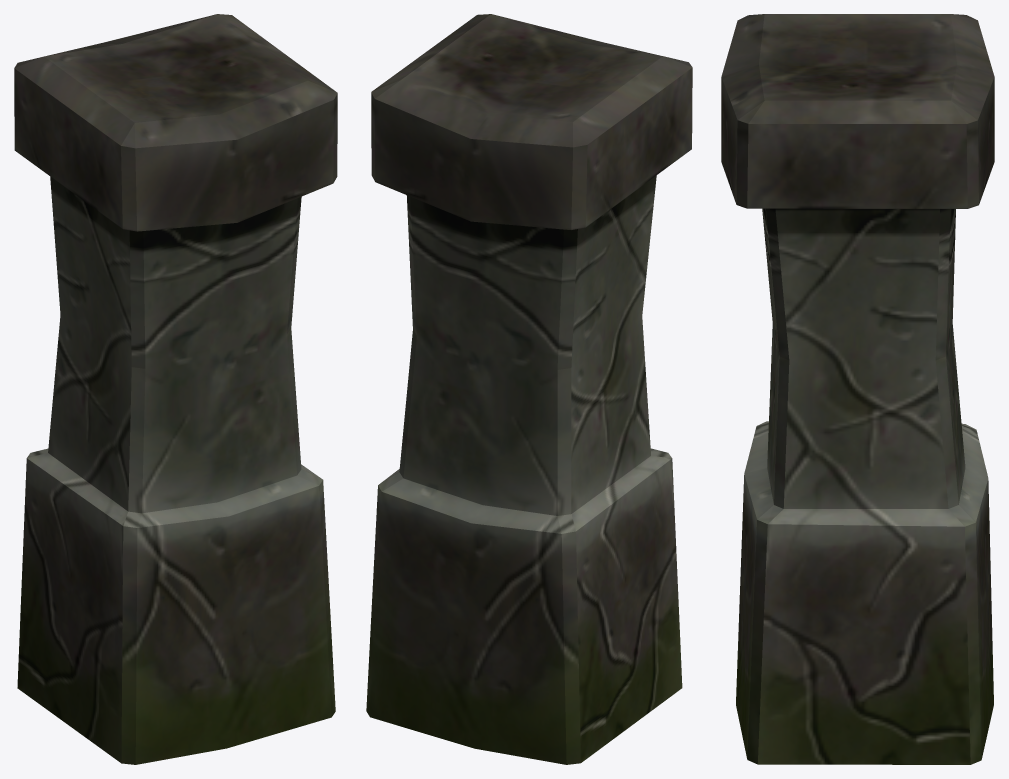
The model's file is Column02.FBX.
3 renders of one model, left to right at view 1: azimuth 30°, elevation 25°; view 2: azimuth 150°, elevation 25°; view 3: azimuth 270°, elevation 25°, orthographic. The views are drawn at different scales.
Parts seen in each view (by area): view 1: Column02; view 2: Column02; view 3: Column02.
Boxes of the visible parts, x1,y1,x2,y2 form: Column02: (14, 14, 337, 764); Column02: (366, 14, 692, 764); Column02: (721, 14, 994, 764).
Size of the model in its own units: 15.42 by 42.35 by 16.09.
